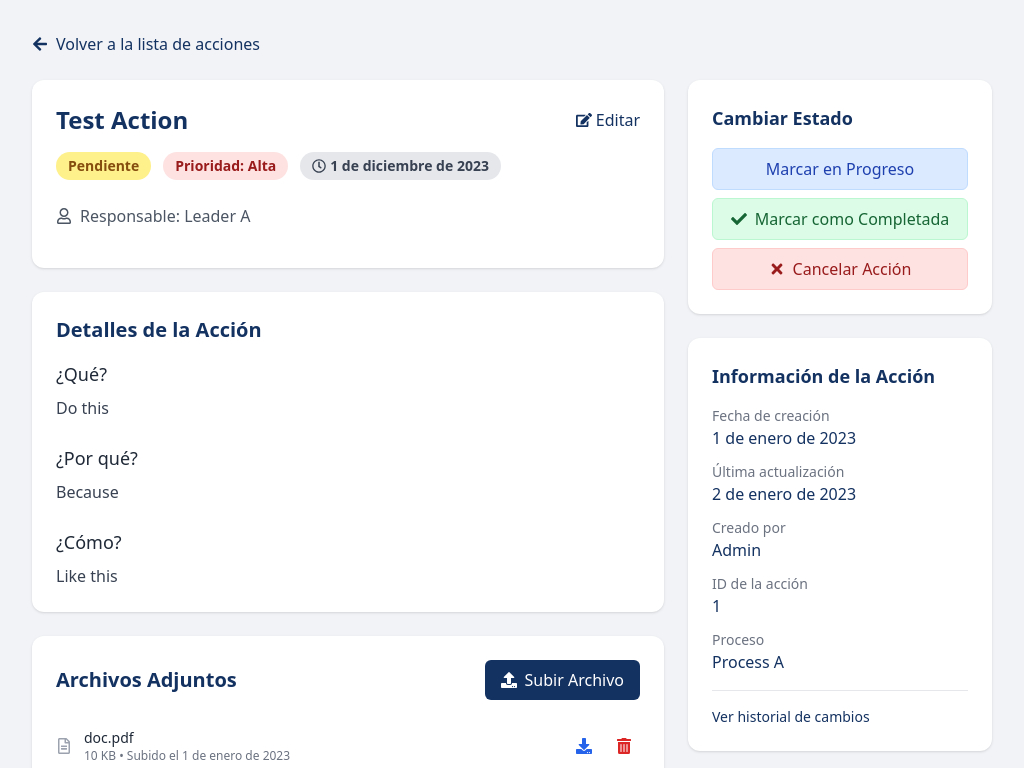
Test: ActionDetail › should delete a file
Expected: the heading "Test Action" is shown, [56, 104, 188, 136]
Expected: the text "doc.pdf" is shown, [84, 728, 134, 747]
Click the 7th button at (624, 746), box [608, 730, 640, 762]
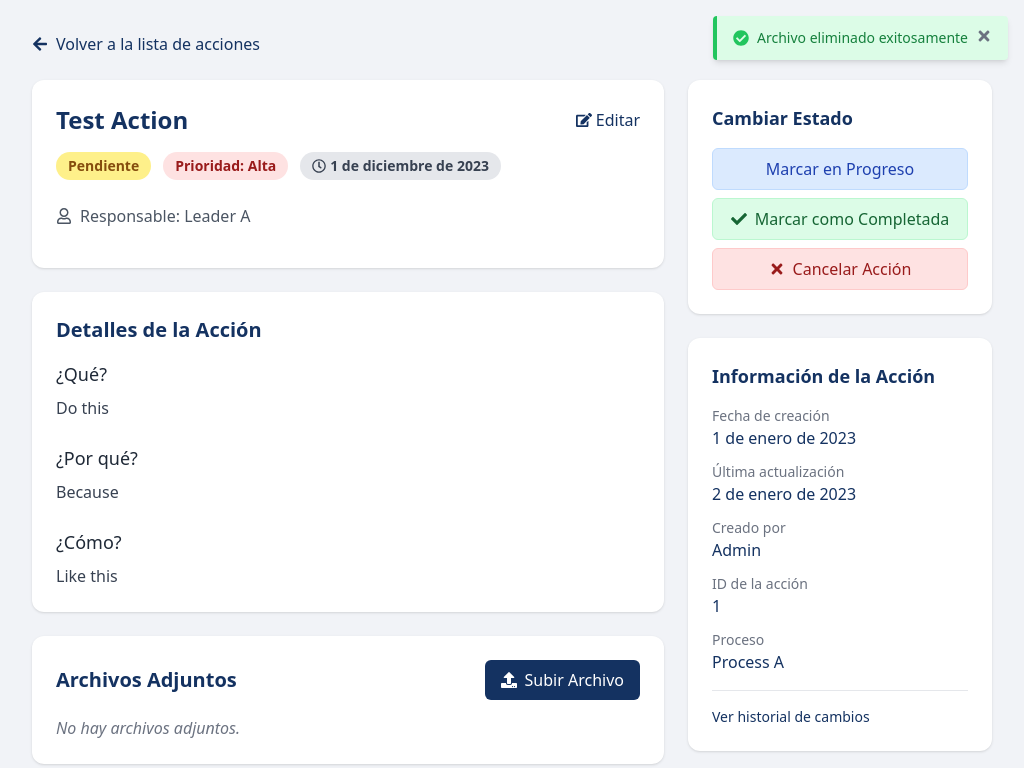
Expected: the text "doc.pdf" is gone
